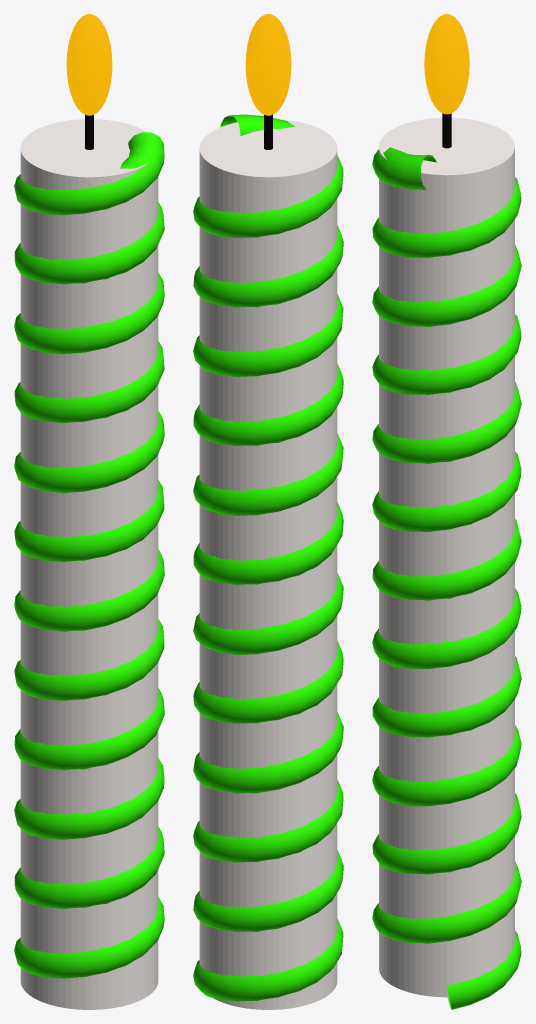
The model's file is wax2.glb.
3 renders of one model, left to right at view 1: azimuth 30°, elevation 25°; view 2: azimuth 150°, elevation 25°; view 3: azimuth 270°, elevation 25°, orthographic.
Visible parts, largest first — view 1: Candle, SpiralCurve, Flame; view 2: Candle, SpiralCurve, Flame; view 3: Candle, SpiralCurve, Flame.
Part boxes in pixels (bbox=[...]): Candle: bbox=[20, 119, 158, 1009]; SpiralCurve: bbox=[14, 132, 164, 978]; Flame: bbox=[66, 14, 112, 115]; Candle: bbox=[199, 119, 337, 1009]; SpiralCurve: bbox=[193, 114, 343, 1001]; Flame: bbox=[245, 14, 291, 115]; Candle: bbox=[379, 117, 514, 997]; SpiralCurve: bbox=[372, 147, 521, 1009]; Flame: bbox=[424, 14, 469, 114].
Bounding box in the file's own units: 0.1713 × 1.22 × 0.1713.
